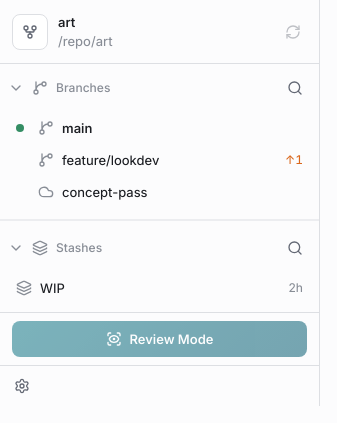
Test: RepositorySidebar › disables branch write actions when the repository has no commits
Right-click the text "feature/lookdev" at (111, 160), box [62,152,159,168]
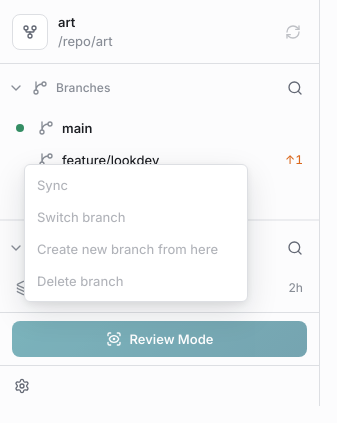
Expected: the menu item "Switch branch" is disabled, [29,201,243,233]
Expected: the menu item "Create new branch from here" is disabled, [29,233,243,265]
Expected: the menu item "Delete branch" is disabled, [29,265,243,297]
